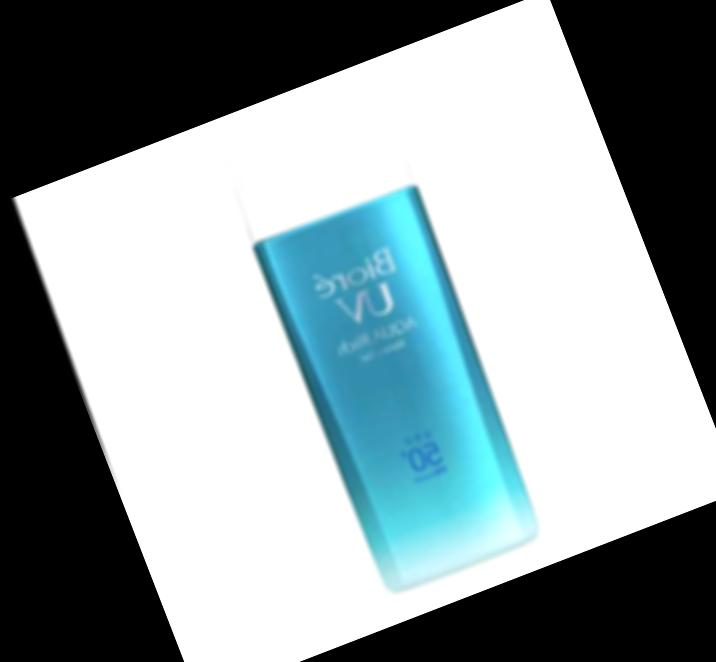cosmetic: (203, 72, 561, 602)
